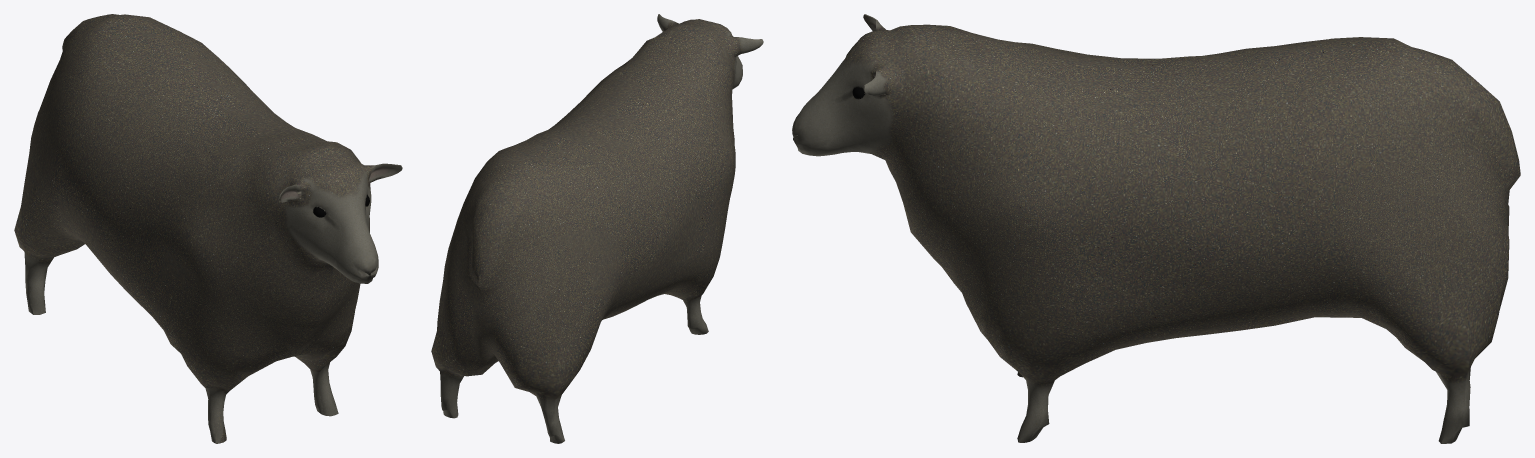
The model's file is sheep-rigged.fbx.
The picture shows the model from 3 angles, left to right: view 1: azimuth 30°, elevation 25°; view 2: azimuth 150°, elevation 25°; view 3: azimuth 270°, elevation 25°; orthographic projection. The views are drawn at different scales.
Parts seen in each view (by area): view 1: low poly; view 2: low poly; view 3: low poly.
Boxes of the visible parts, x1,y1,x2,y2 form: low poly: [14, 14, 402, 443]; low poly: [431, 14, 763, 443]; low poly: [792, 14, 1520, 443].
Size of the model in its own units: 163 by 251 by 440.
